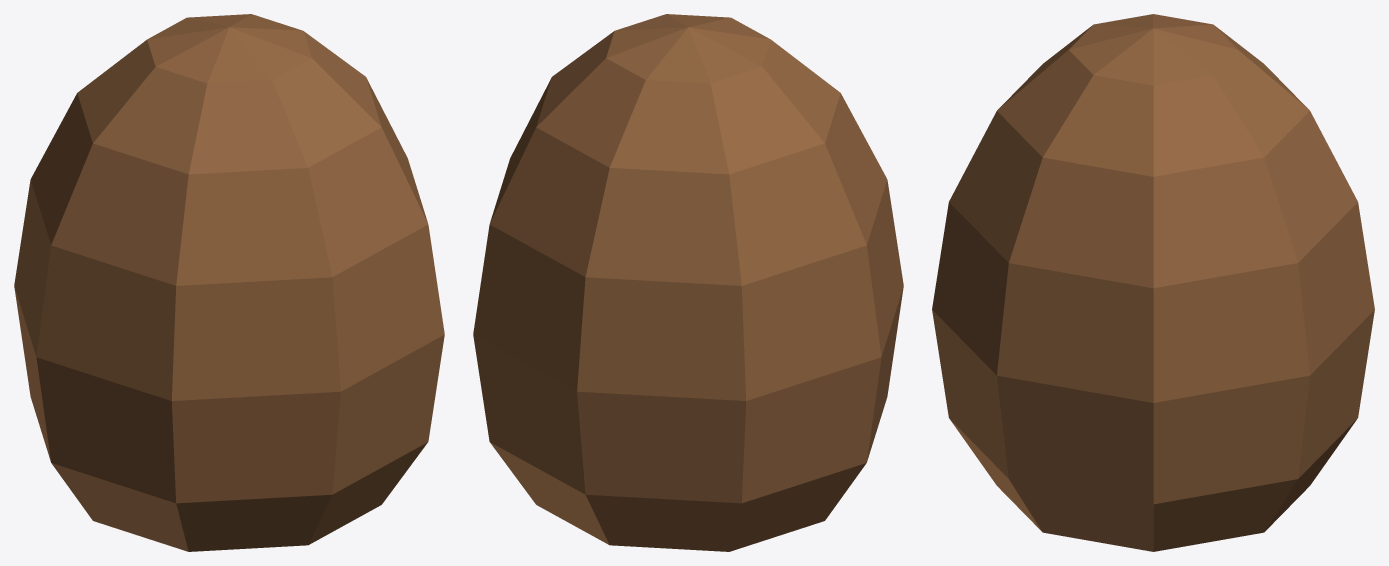
Rendered from Egg Installer.fbx.
The picture shows the model from 3 angles, left to right: view 1: azimuth 30°, elevation 25°; view 2: azimuth 150°, elevation 25°; view 3: azimuth 270°, elevation 25°; orthographic projection.
Parts seen in each view (by area): view 1: Egg_Installer; view 2: Egg_Installer; view 3: Egg_Installer.
Boxes of the visible parts, x1,y1,x2,y2 form: Egg_Installer: [14, 14, 444, 551]; Egg_Installer: [473, 14, 903, 551]; Egg_Installer: [932, 14, 1374, 551].
Bounding box in the file's own units: 1.15 × 1.36 × 1.15.
